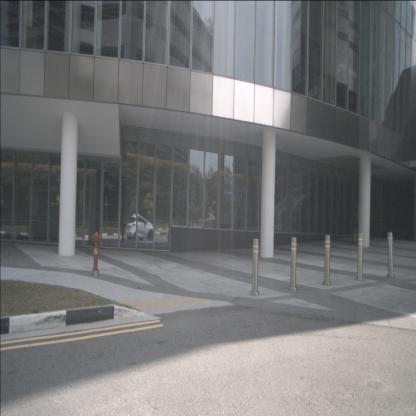human-pedestrian-adult: (352, 202, 361, 244)
vehicle-car: (126, 214, 154, 243)
